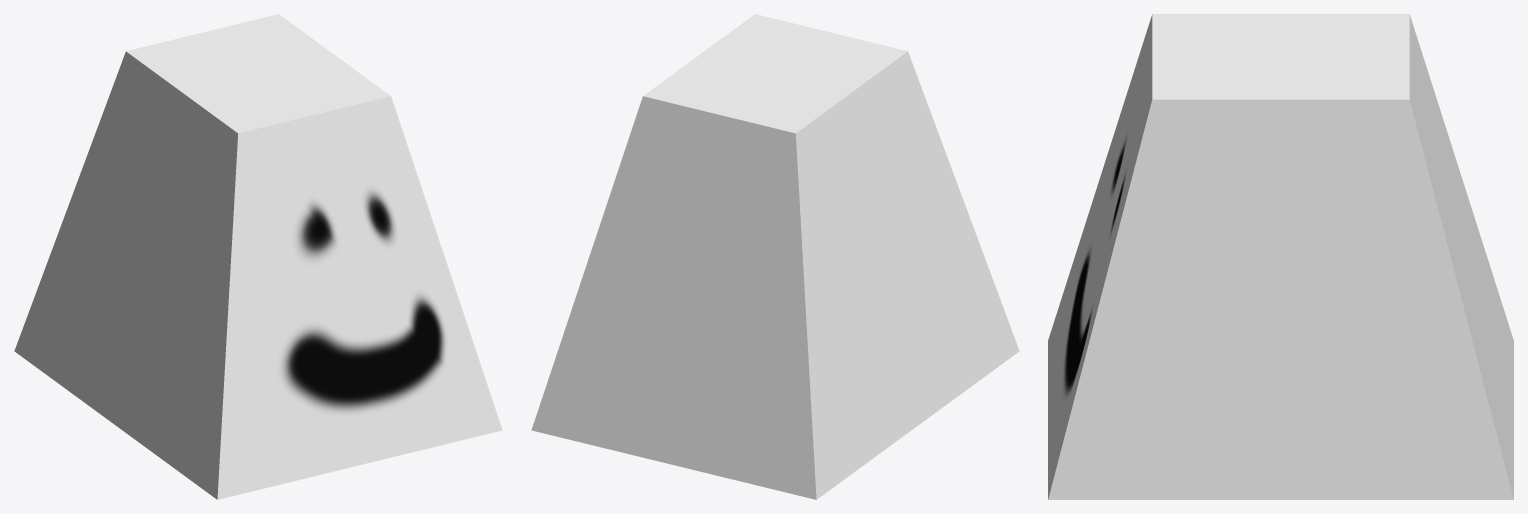
File: float_Body.gltf
3 views of the same model, side by side, from view 1: azimuth 30°, elevation 25°; view 2: azimuth 150°, elevation 25°; view 3: azimuth 270°, elevation 25° (orthographic). The views are drawn at different scales.
Parts seen in each view (by area): view 1: Cube; view 2: Cube; view 3: Cube.
Boxes of the visible parts, left/top/right/bottom form: Cube: left=14, top=14, right=502, bottom=499; Cube: left=531, top=14, right=1019, bottom=499; Cube: left=1048, top=14, right=1513, bottom=499.
Bounding box in the file's own units: 1.12 × 1.19 × 1.38.
